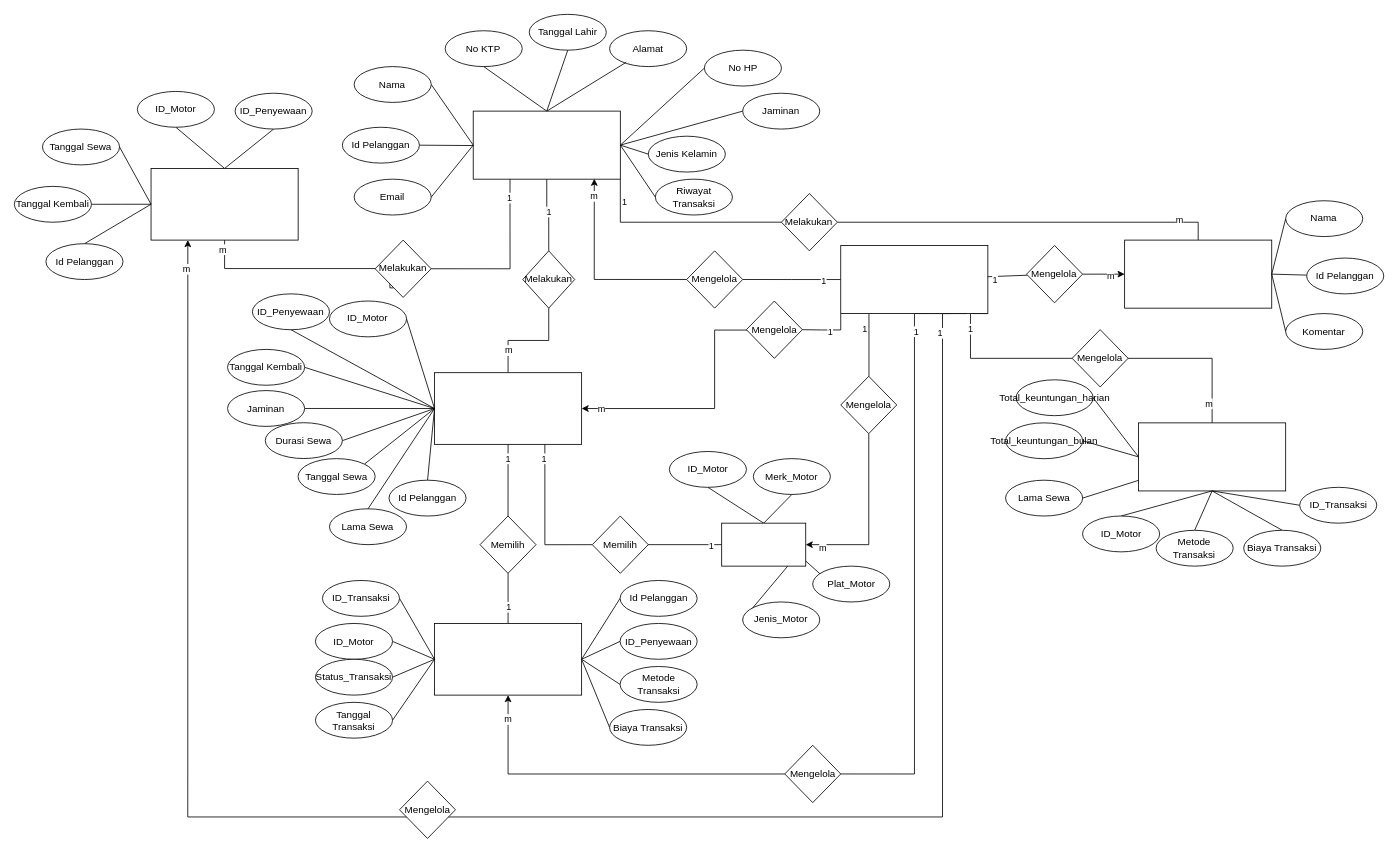
Image size: 1398x853. Some labels were removed from this diagram. Each missing label, with the centre of its shape:
"Admin" belongs at point 914,279.
"Keuangan" belongs at point 1212,456.
"Motor" belongs at point 763,544.
"Pelanggan" belongs at point 546,144.
"Pengembalian_Motor" belongs at point 224,204.
"Penyewaan" belongs at point 508,408.
"Review Pelanggan" belongs at point 1198,273.
"Transaksi" belongs at point 508,659.
